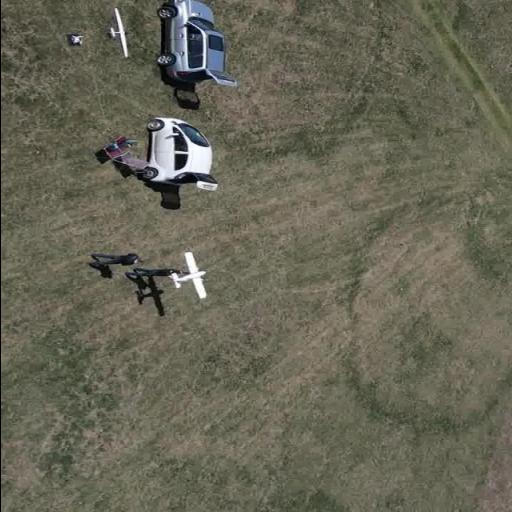uav: (166, 250, 208, 300)
